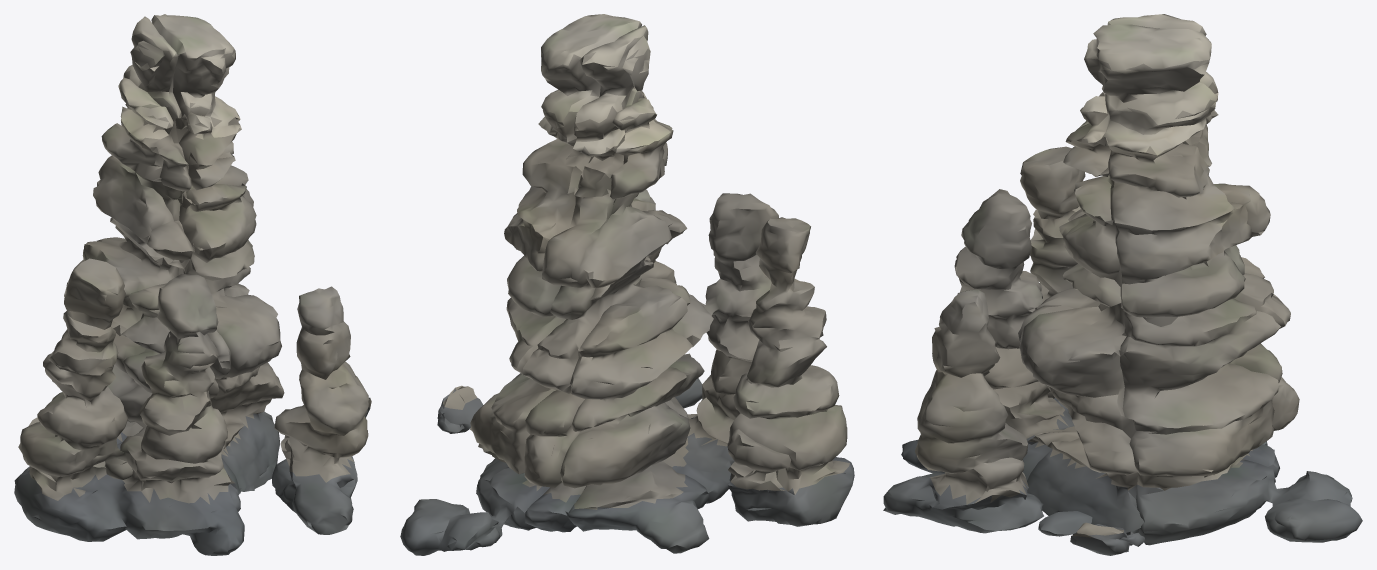
The model's file is searock_b.6f3c92eb.glb.
3 views of the same model, side by side, from view 1: azimuth 30°, elevation 25°; view 2: azimuth 150°, elevation 25°; view 3: azimuth 270°, elevation 25° (orthographic). The views are drawn at different scales.
Visible parts, largest first — view 1: searock_b; view 2: searock_b; view 3: searock_b.
Part boxes in pixels (box(x1,y1,x2,y2)): searock_b: box(14, 14, 371, 555); searock_b: box(400, 14, 854, 555); searock_b: box(883, 14, 1362, 555).
Bounding box in the file's own units: 12.81 × 15.42 × 14.01.
